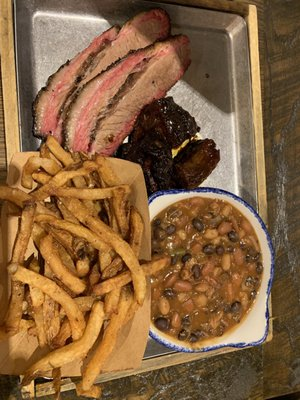sushi: (147, 188, 273, 352)
